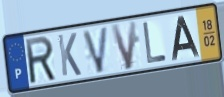A: (170, 15, 202, 62)
K: (56, 31, 83, 79)
L: (141, 21, 168, 66)
R: (23, 34, 58, 87)
V: (109, 18, 139, 72), (81, 24, 110, 76)
